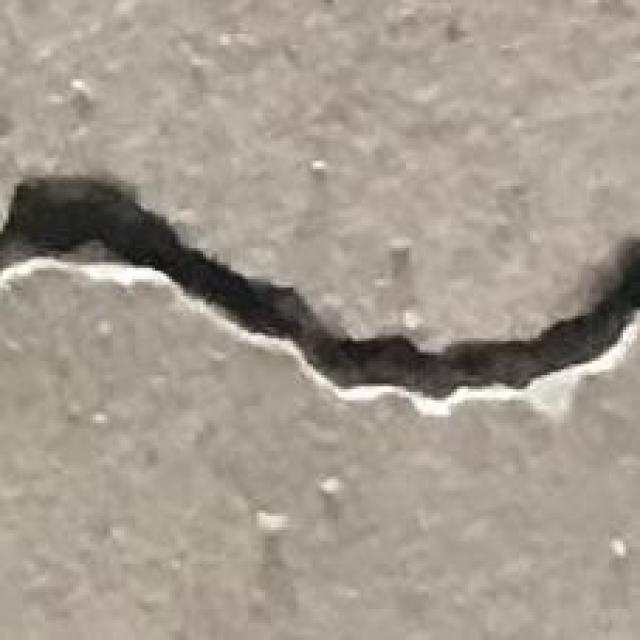curved crack: (0, 176, 639, 399)
